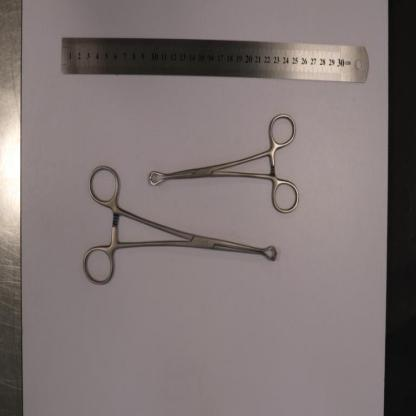8 Babcock Tissue Forceps: (83, 166, 276, 284)
Babcock Tissue Forceps: (141, 113, 299, 220)
